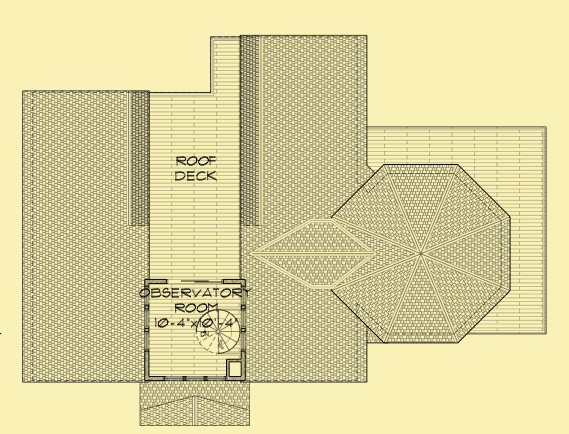stairs: (196, 308, 240, 355)
windows: (141, 287, 154, 353), (159, 373, 227, 385), (238, 288, 250, 354)
